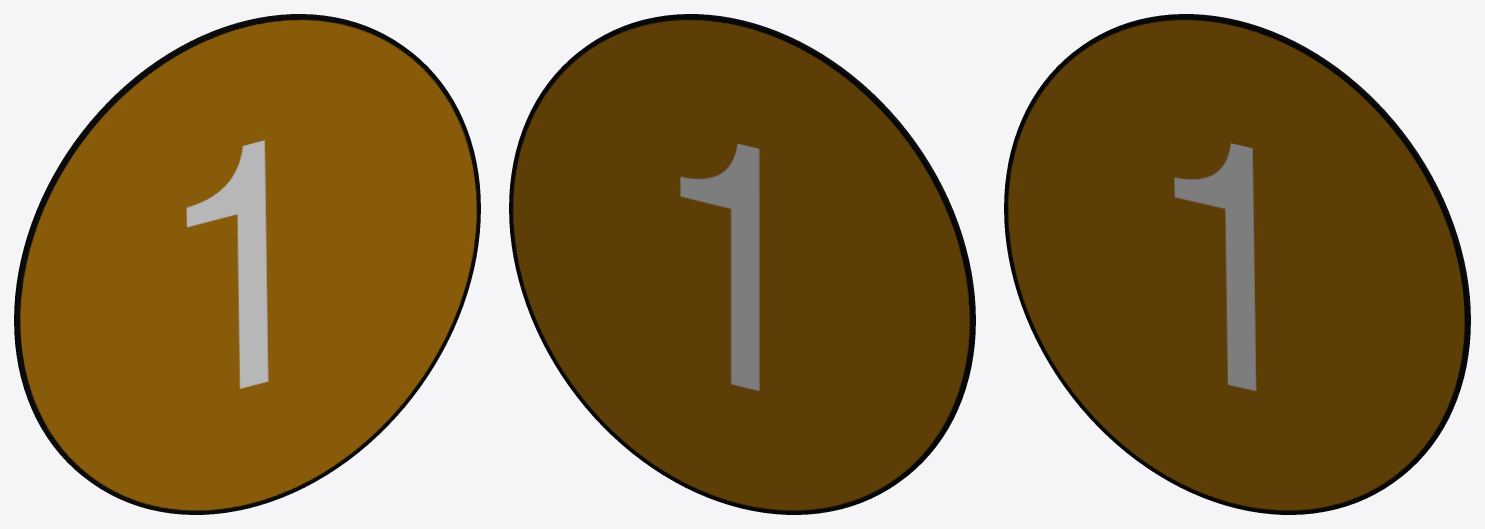
Rendered from number1.glb.
3 renders of one model, left to right at view 1: azimuth 30°, elevation 25°; view 2: azimuth 150°, elevation 25°; view 3: azimuth 330°, elevation 25°, orthographic.
Parts seen in each view (by area): view 1: Cylinder; view 2: Cylinder; view 3: Cylinder.
Part boxes in pixels (x1=…): Cylinder: x1=14, y1=14, x2=480, y2=514; Cylinder: x1=509, y1=14, x2=975, y2=514; Cylinder: x1=1004, y1=14, x2=1470, y2=514.
Bounding box in the file's own units: 5 × 5 × 0.0392.
2 materials, 1 textured.
